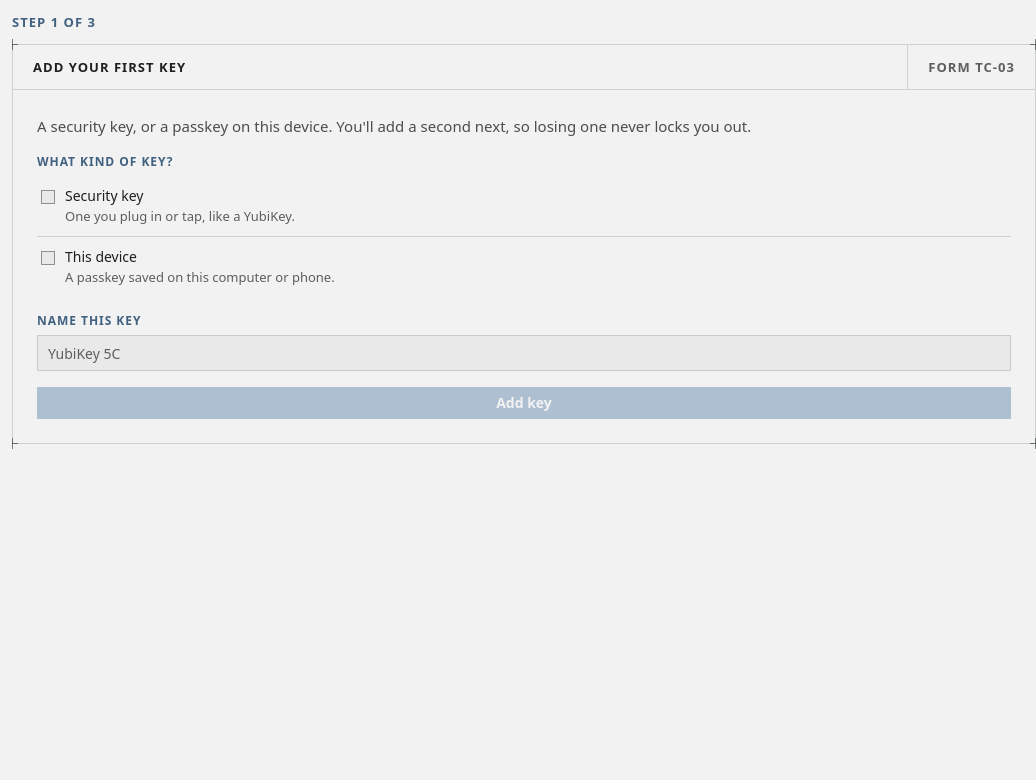
Scenario: Setup › still offers both kinds on step 2, whatever the first key was
Click the radio button labelled "This device A passkey saved on this computer or phone." at (101, 256), box [37,237,1011,297]
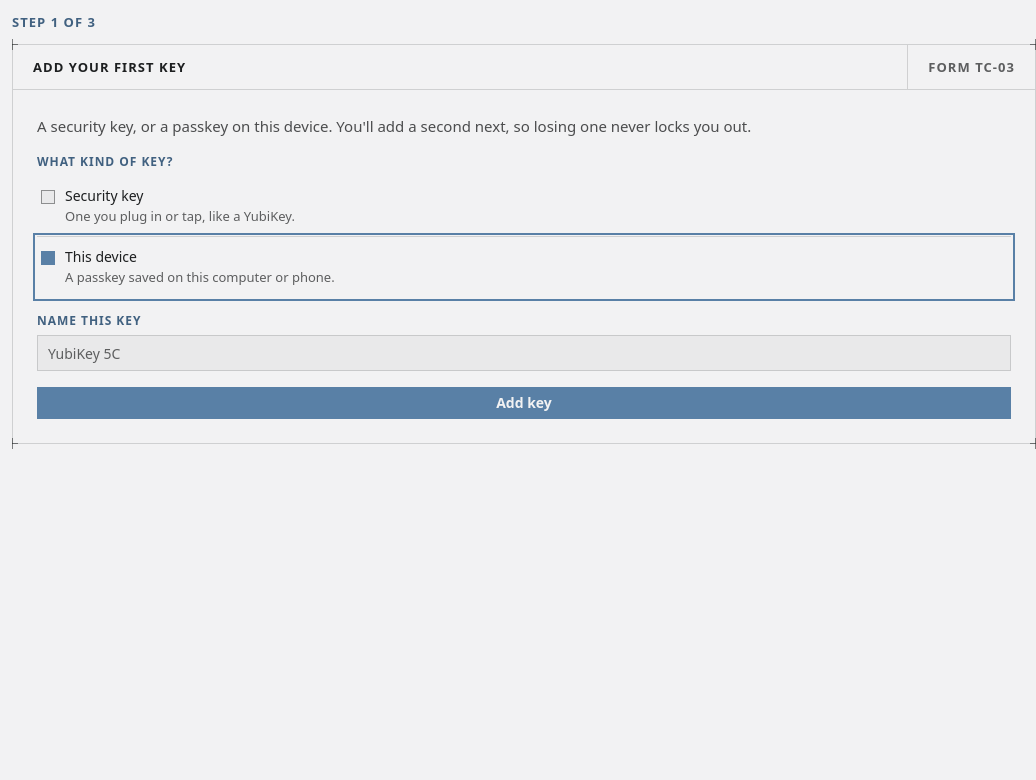
Type "MacBook Pro" into the field labelled "Name this key" at (524, 353), box [37,335,1011,371]
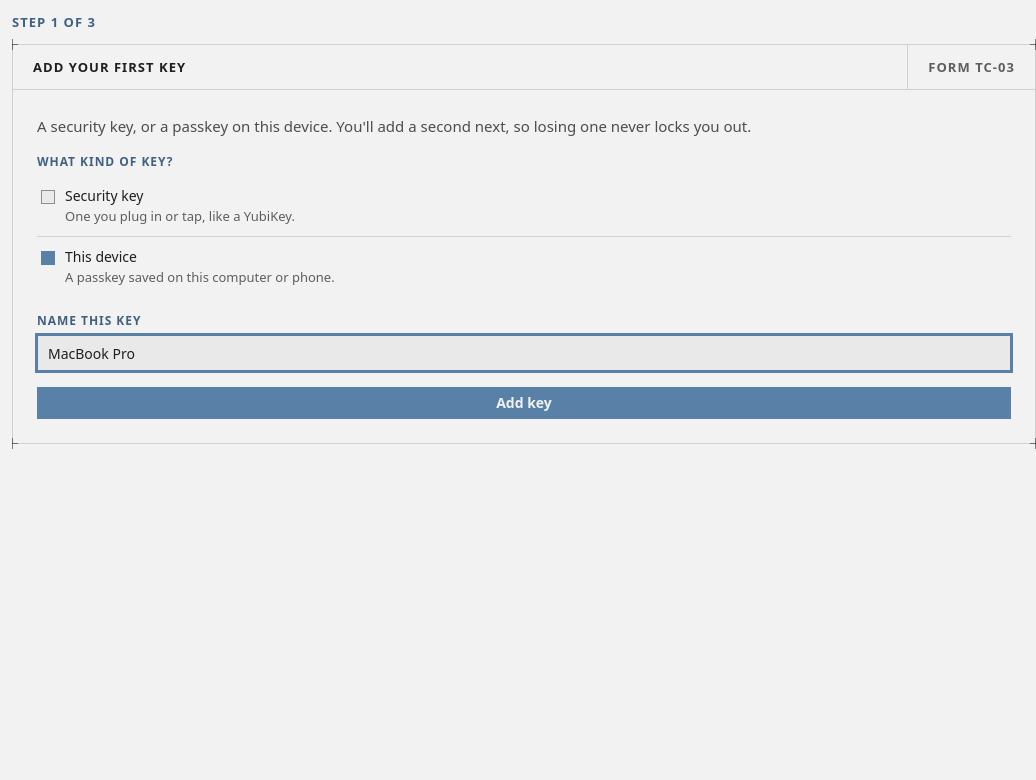
Click the button "Add key" at (524, 403), box [37,387,1011,419]
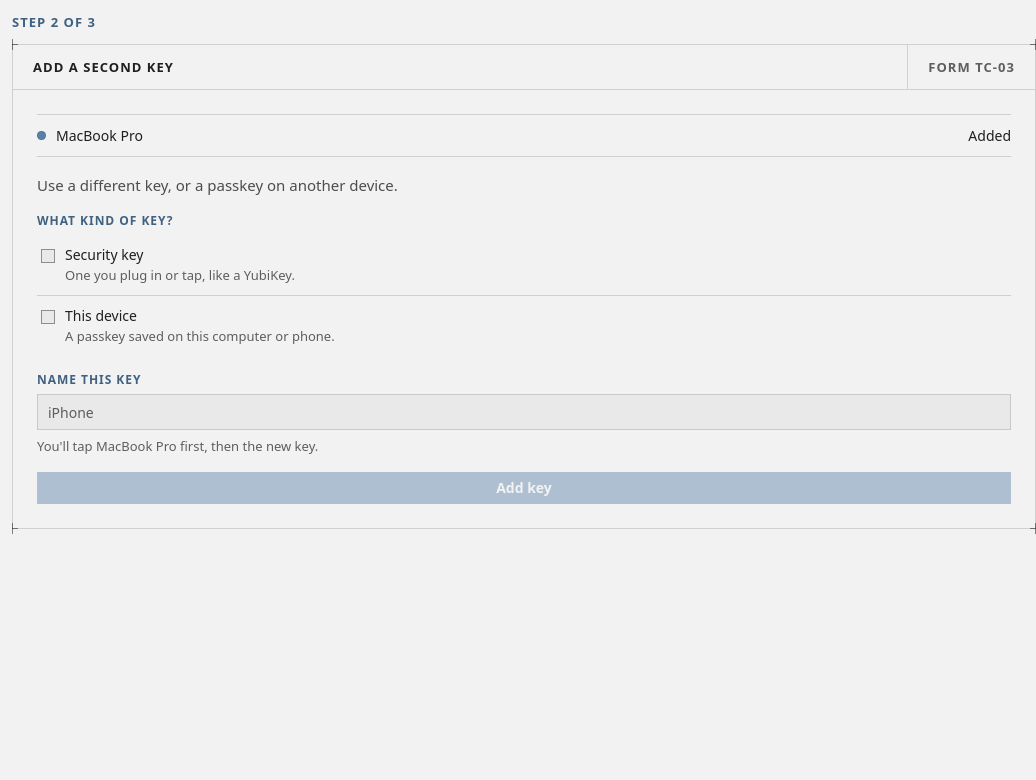
expect the radio button labelled "Security key One you plug in or tap, like a YubiKey." is enabled: met, box [37,235,1011,296]
expect the heading "Add a second key" is shown: met, box [33,58,174,76]
